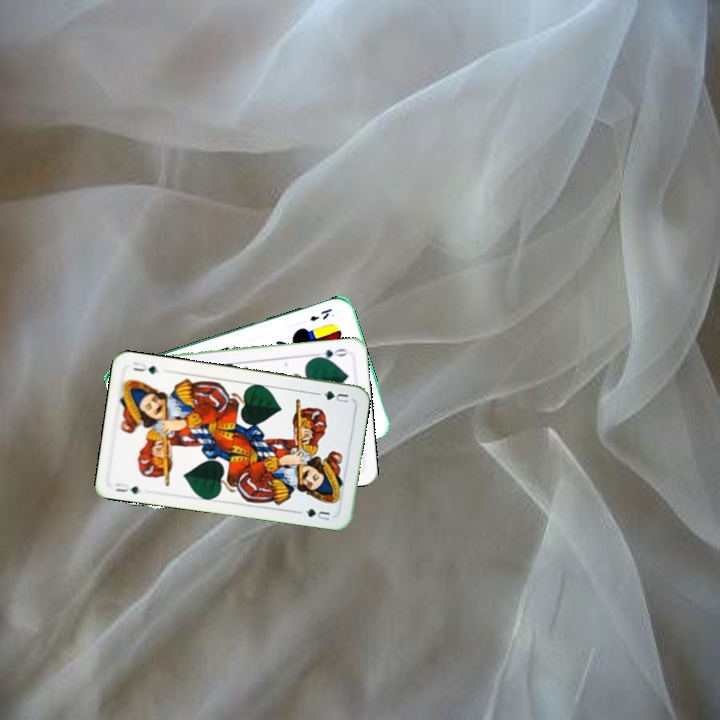EK: (305, 304, 334, 324)
GO: (310, 345, 351, 363)
GU: (313, 387, 351, 405), (111, 479, 141, 497)
